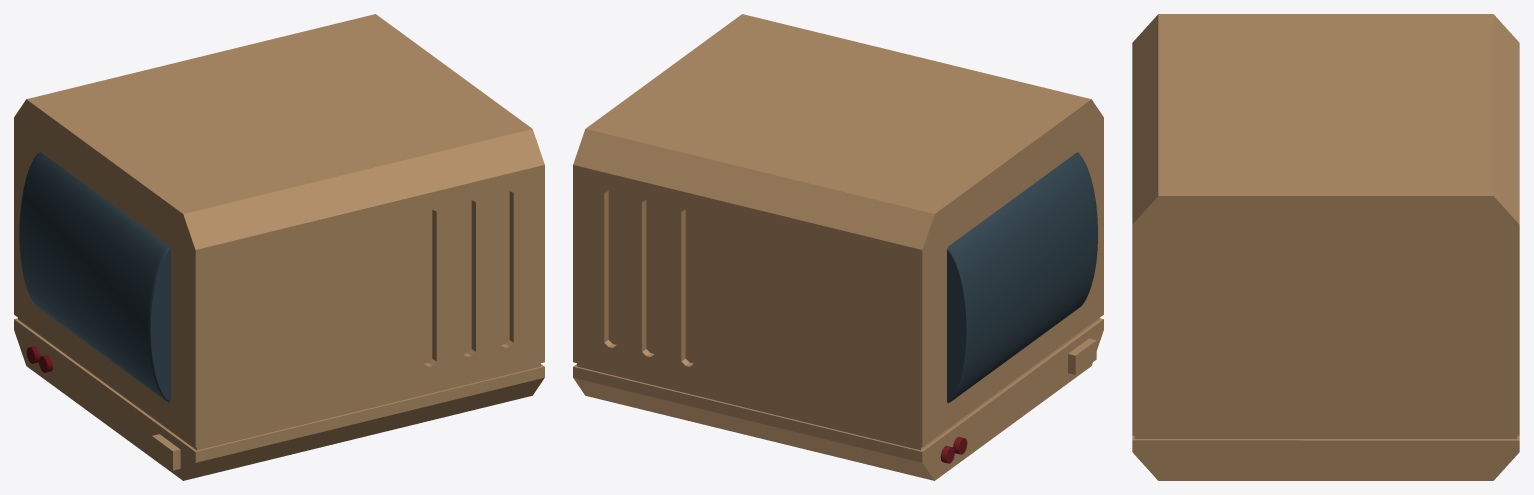
Rendered from monitor_tier1.fbx.
3 renders of one model, left to right at view 1: azimuth 30°, elevation 25°; view 2: azimuth 150°, elevation 25°; view 3: azimuth 270°, elevation 25°, orthographic. The views are drawn at different scales.
Parts seen in each view (by area): view 1: Cube.001, Cylinder, Cube; view 2: Cube.001, Cylinder, Cube; view 3: Cube.001.
Part boxes in pixels (<box>): Cube.001: <box>14,14,544,480</box>; Cylinder: <box>19,152,170,402</box>; Cube: <box>152,434,180,470</box>; Cube.001: <box>573,14,1103,480</box>; Cylinder: <box>947,152,1097,403</box>; Cube: <box>1068,338,1096,374</box>; Cube.001: <box>1132,14,1519,480</box>.
Bounding box in the file's own units: 80.09 × 55.23 × 68.05.
